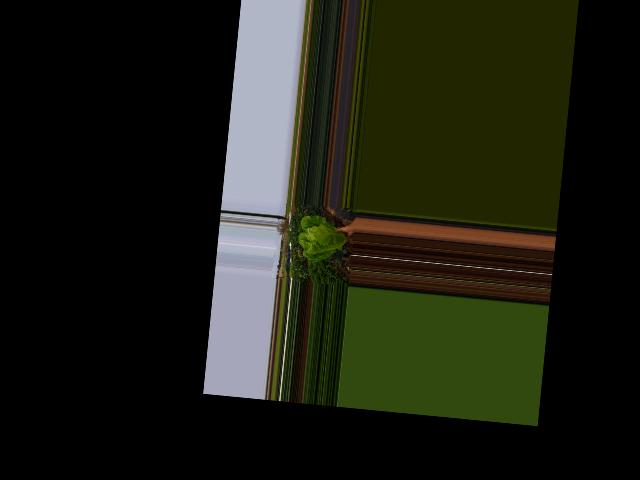lettuce: (296, 211, 352, 266)
